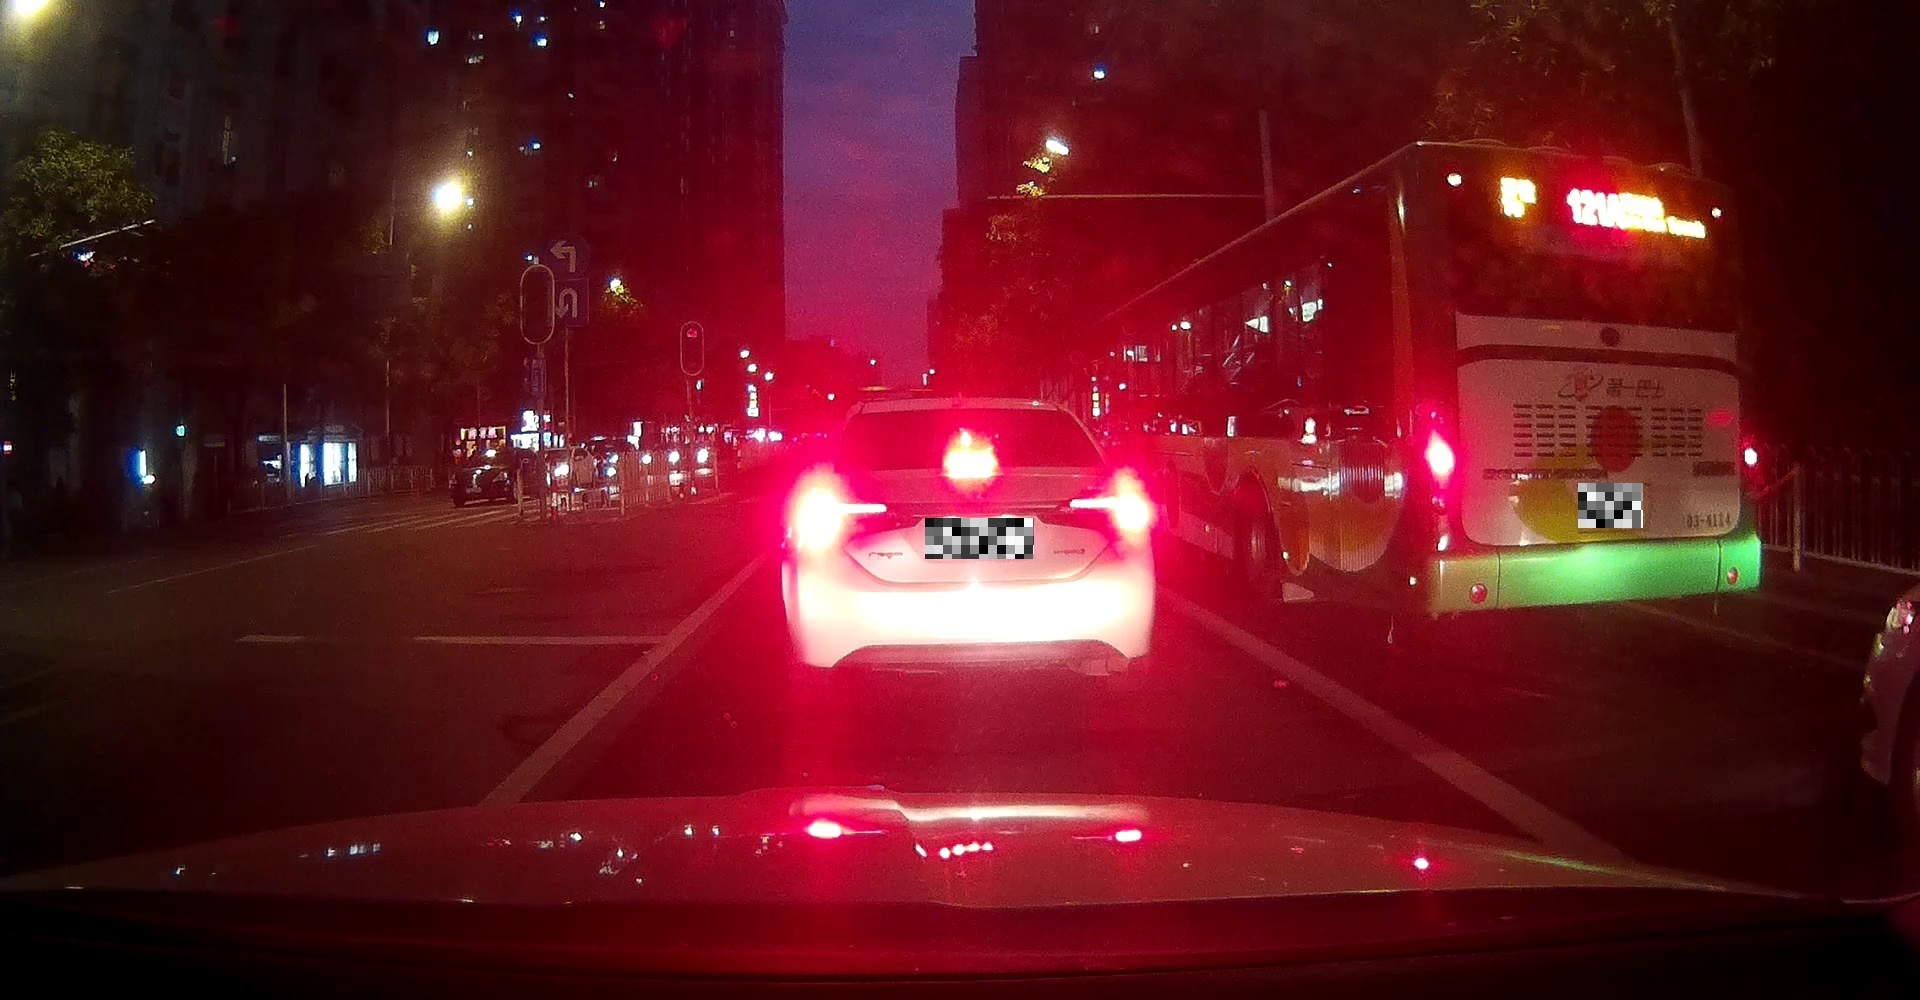L_light: (787, 497, 919, 548), (1415, 407, 1451, 511)
R_light: (1037, 484, 1150, 539), (1741, 418, 1759, 491)
T_light: (943, 453, 999, 472), (1567, 168, 1622, 183)
night-brake: (780, 388, 1156, 711)
night-no: (1403, 138, 1761, 636)
plate_1: (924, 518, 1034, 558)
plate_2: (1578, 484, 1643, 528)
